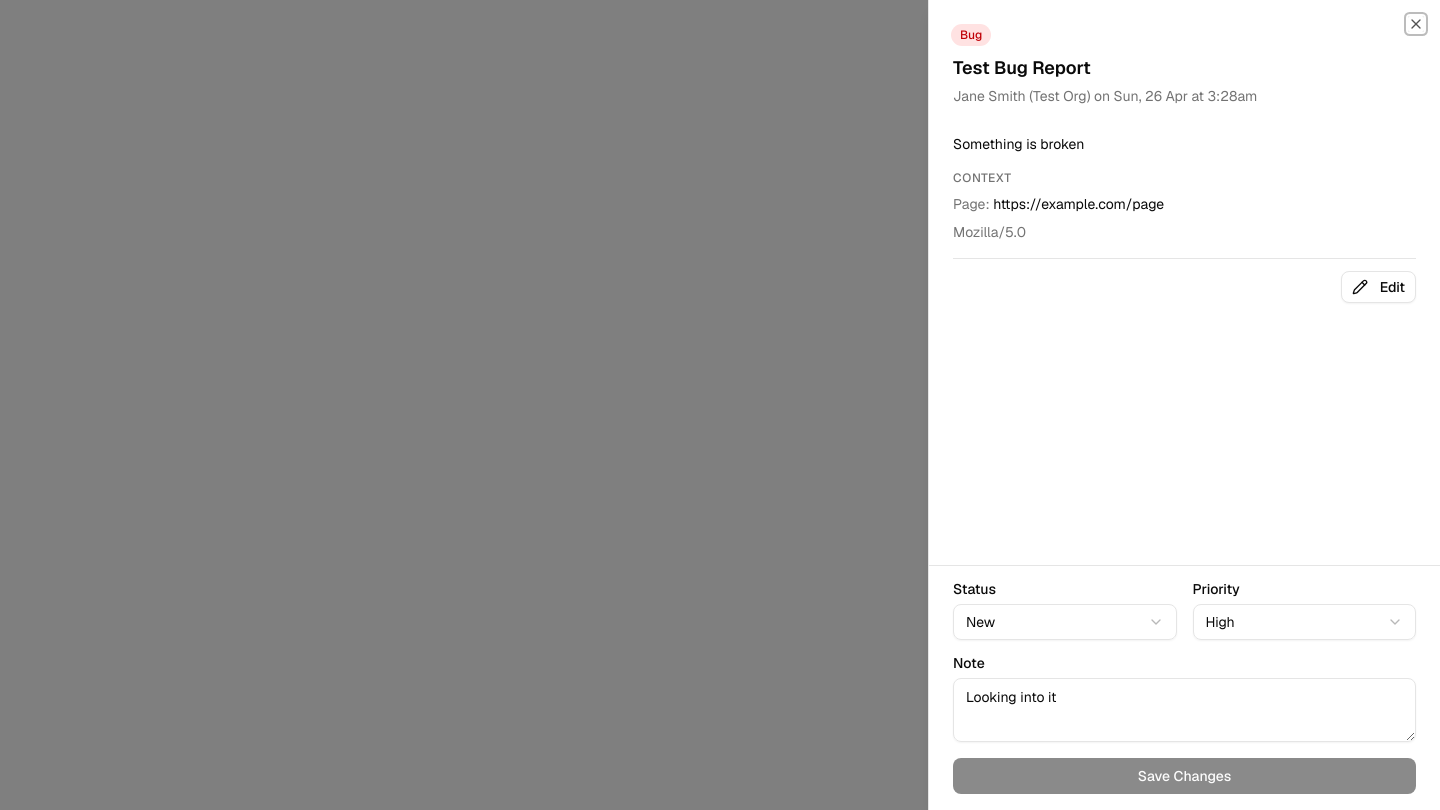
SupportSlideout › disables save button when title is empty in edit mode
Click the button "Edit" at (1378, 287), box [1341,271,1416,303]
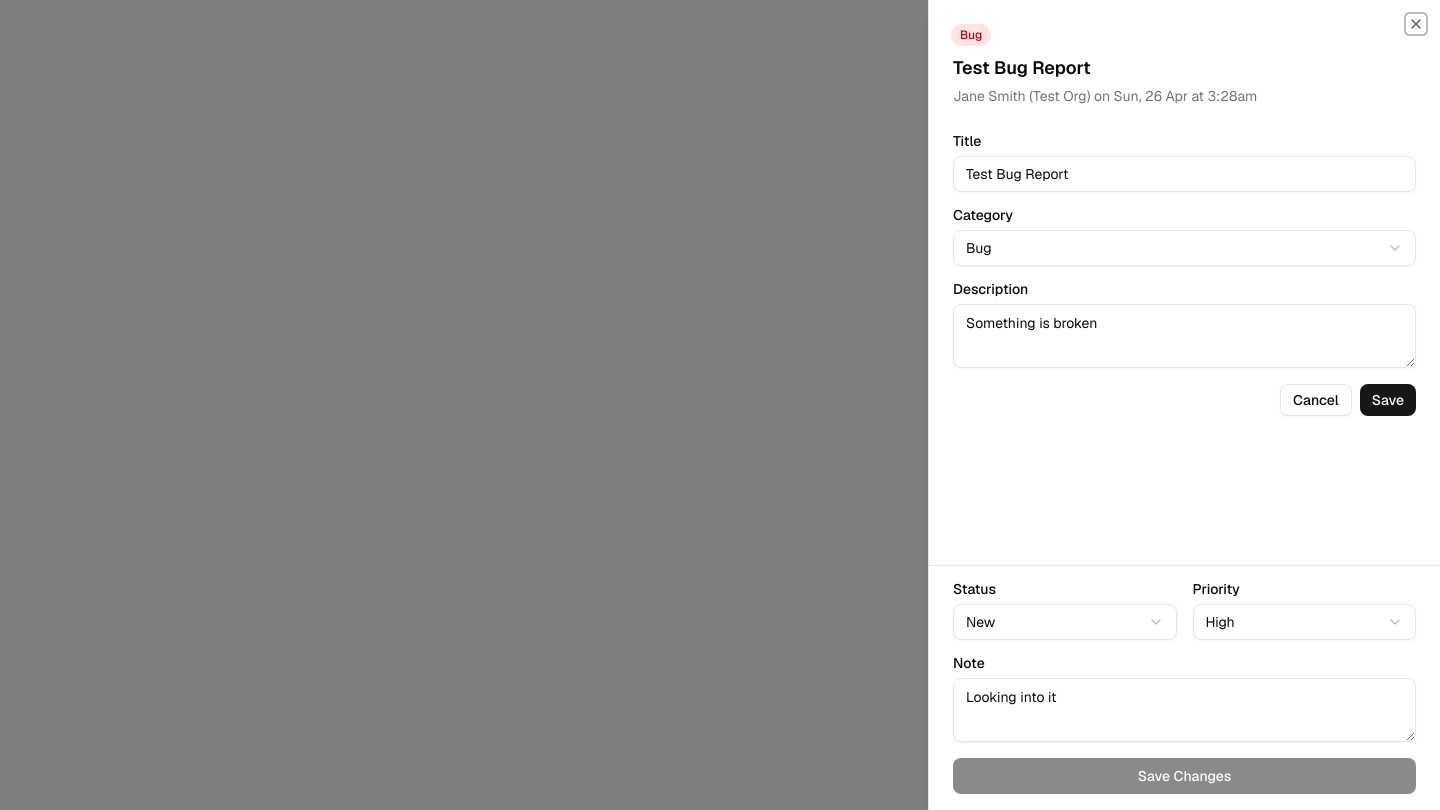
Clear the field labelled "Title" at (1184, 174), box [953,156,1416,192]
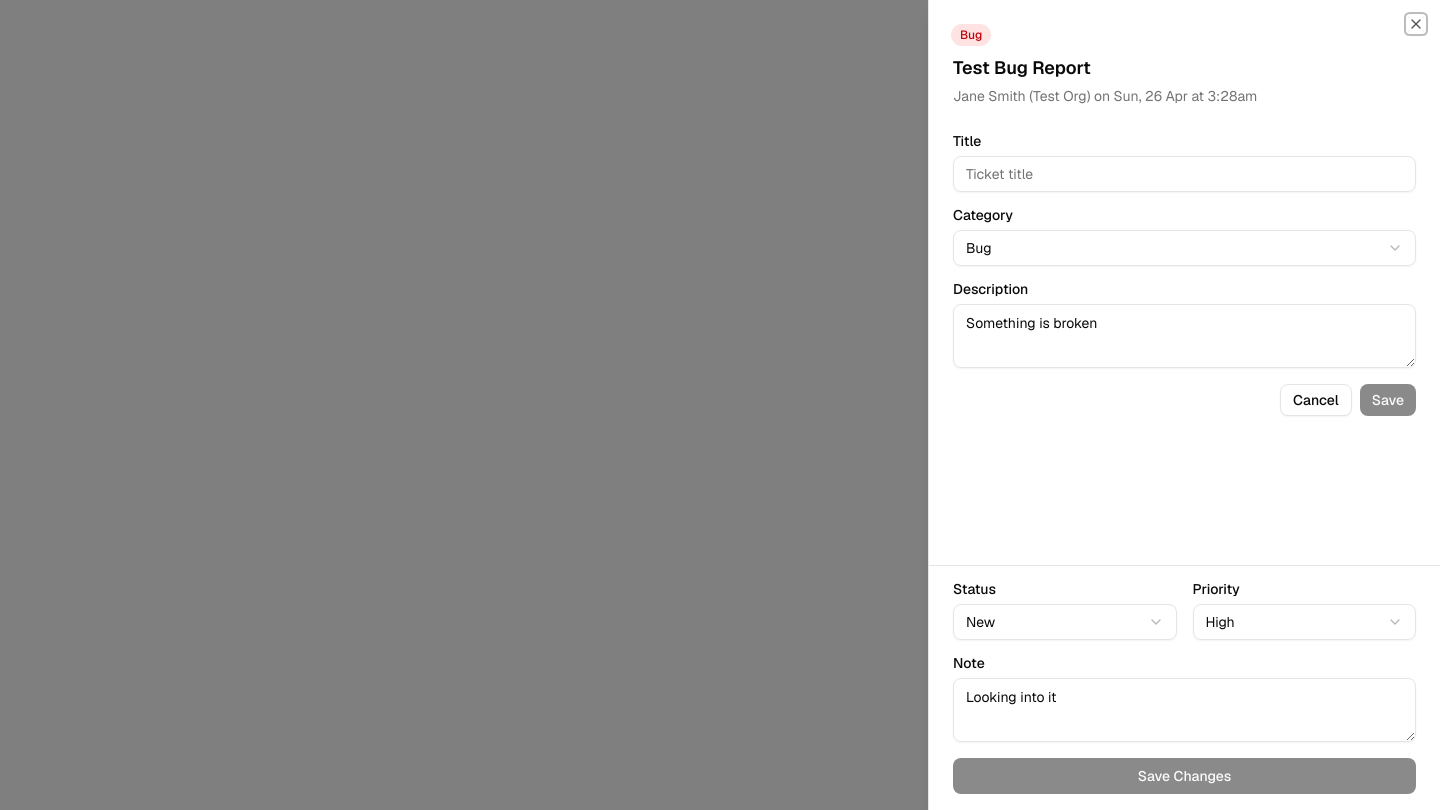
Check: the button "Save" is disabled, box [1360,384,1416,416]
